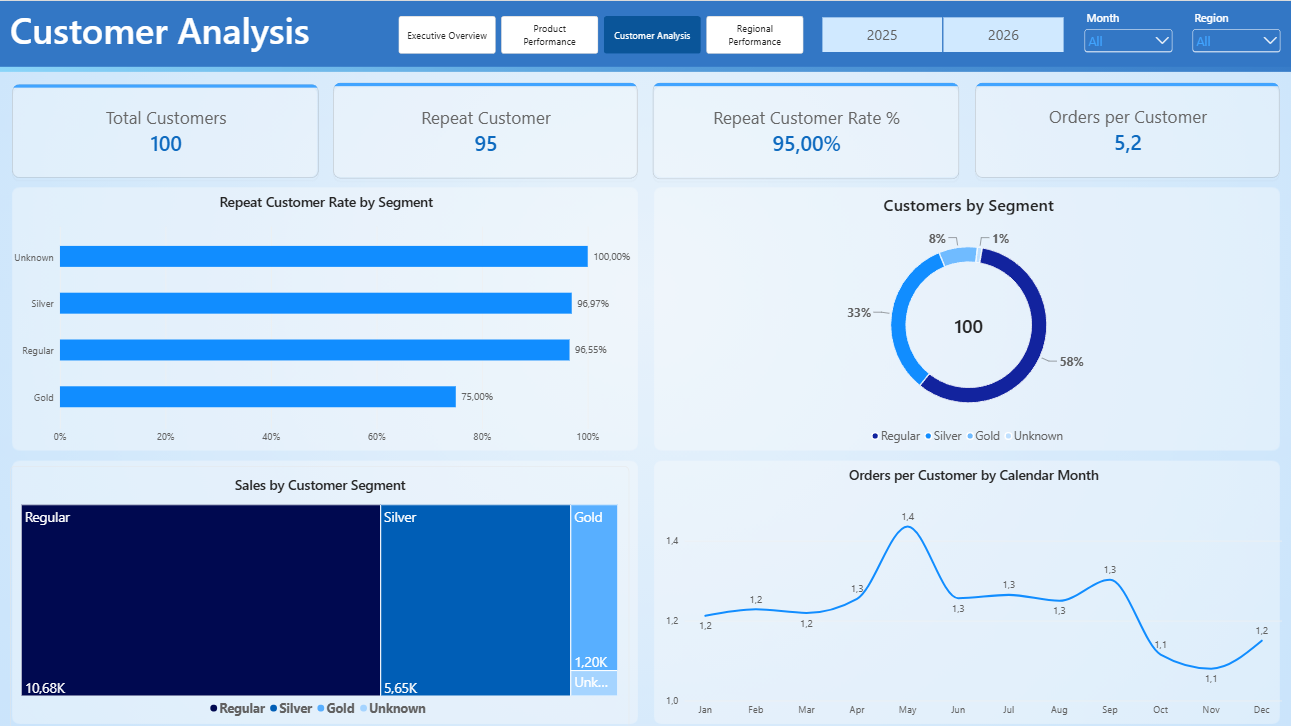

This screenshot's page, from the dashboard's own definition file:
{"tool":"powerbi","page":{"name":"Customer Analysis","canvas":[1920,1080],"ordinal":2},"visuals":[{"type":"cardVisual","fields":{"Data":["_Measures.Total Customers"]},"box":[15,117.5,465,150],"z":0},{"type":"cardVisual","fields":{"Data":["_Measures.Repeat Customer Rate %"]},"box":[965,115,465,154.2],"z":1000},{"type":"cardVisual","fields":{"Data":["_Measures.Repeat Customer"]},"box":[490,115,462.5,153.3],"z":2000},{"type":"cardVisual","fields":{"Data":["_Measures.Orders per Buyer (by customer)"]},"box":[1442.5,115,462.5,152.5],"z":3000},{"type":"slicer","fields":{"Values":["DimDate.MonthName"]},"box":[1605,12.5,140,75],"z":4000},{"type":"slicer","fields":{"Values":["DimRegion.Region"]},"box":[1765,12.5,140,72.5],"z":5000},{"type":"slicer","fields":{"Values":["DimDate.Year"]},"box":[1200,22.5,397.5,55],"z":6000},{"type":"textbox","box":[17.5,7.5,522.5,82.5],"z":7000},{"type":"clusteredBarChart","title":"Repeat Customer Rate by Segment","fields":{"Category":["Customers.Segment"],"Y":["_Measures.Repeat Customer Rate %"]},"box":[17.1,285.5,936.9,375.7],"z":7001},{"type":"donutChart","title":"Customers by Segment","fields":{"Category":["Customers.Segment"],"Y":["_Measures.Total Customers"]},"box":[973.5,285.5,929.6,375.7],"z":7002},{"type":"lineChart","title":"Orders per Customer by Calendar Month","fields":{"Category":["DimDate.MonthName"],"Y":["_Measures.Orders per Customer"]},"box":[973.5,688,936.9,392.8],"z":7004},{"type":"treemap","title":"Sales by Customer Segment","fields":{"Group":["Customers.Segment"],"Values":["_Measures.Sales"]},"box":[17.1,688,917.4,392.8],"z":7005},{"type":"pageNavigator","box":[592.9,22,602.6,56.1],"z":7006}]}

Visuals, with their boxes in screenshot pixels (x1, y1, x2, y2), scaled from the page's 1920x1080 canvas onto the 1291x726 screenshot:
cardVisual - _Measures.Total Customers: 10:79:323:180
cardVisual - _Measures.Repeat Customer Rate %: 649:77:962:181
cardVisual - _Measures.Repeat Customer: 329:77:640:180
cardVisual - _Measures.Orders per Buyer (by customer): 970:77:1281:180
slicer - DimDate.MonthName: 1079:8:1173:59
slicer - DimRegion.Region: 1187:8:1281:57
slicer - DimDate.Year: 807:15:1074:52
textbox: 12:5:363:61
"Repeat Customer Rate by Segment" clusteredBarChart: 11:192:641:444
"Customers by Segment" donutChart: 655:192:1280:444
"Orders per Customer by Calendar Month" lineChart: 655:462:1285:725
"Sales by Customer Segment" treemap: 11:462:628:725
pageNavigator: 399:15:804:53
